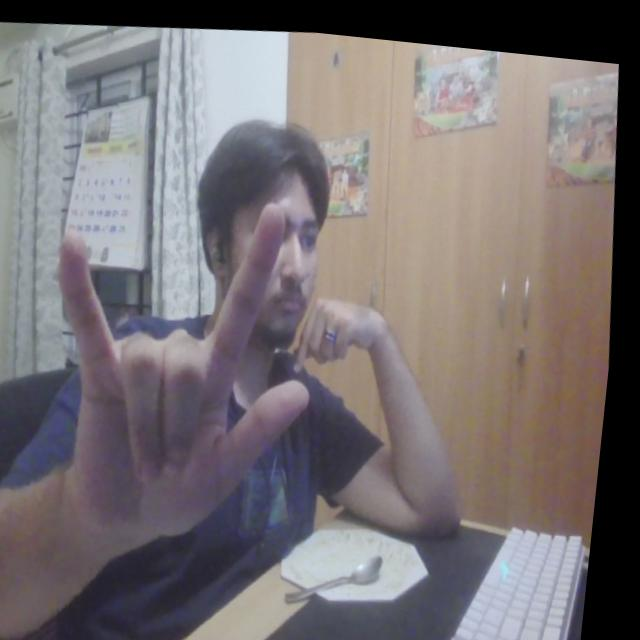iloveyou: (35, 172, 345, 558)
